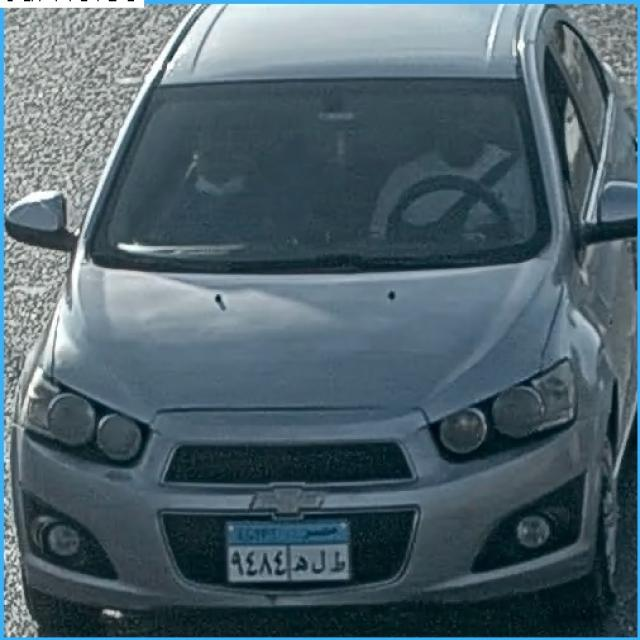windshield: (80, 84, 552, 250)
